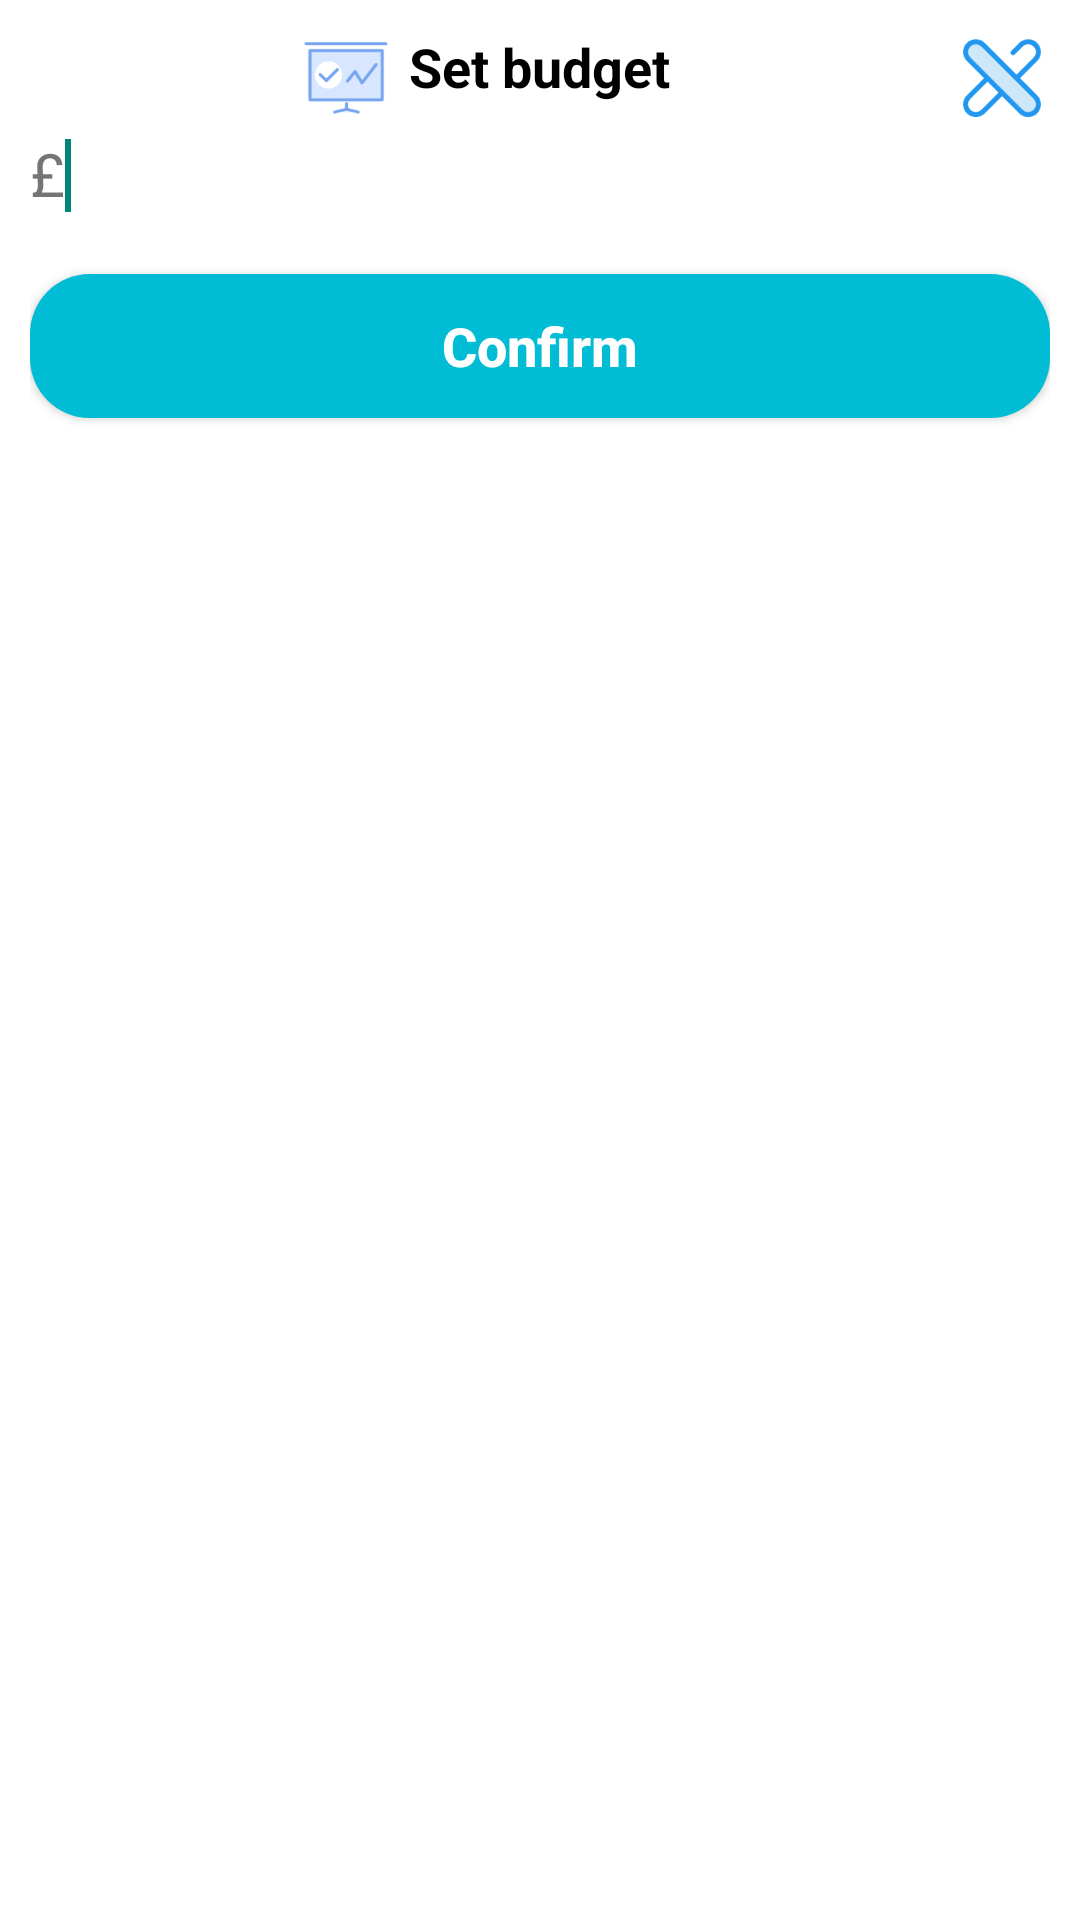

Screen size 1080×1920. Icon name, then its center in pixels as (x=x, y=y):
cancel: (x=1002, y=78)
